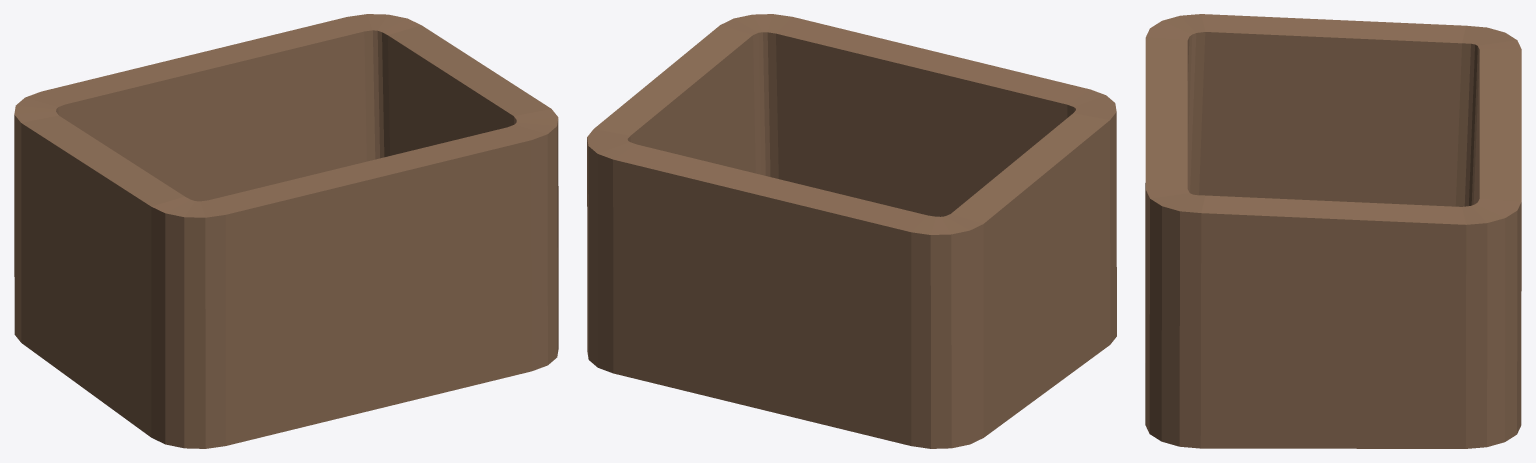
Rendered from TomatoBoxBackEmpty.fbx.
3 views of the same model, side by side, from view 1: azimuth 30°, elevation 25°; view 2: azimuth 150°, elevation 25°; view 3: azimuth 270°, elevation 25° (orthographic). The views are drawn at different scales.
Visible parts, largest first — view 1: FrontBox01.001; view 2: FrontBox01.001; view 3: FrontBox01.001.
Boxes of the visible parts, <box> form: FrontBox01.001: <box>14,14,558,448</box>; FrontBox01.001: <box>587,14,1116,448</box>; FrontBox01.001: <box>1145,14,1521,448</box>.
Size of the model in its own units: 93.85 by 51.87 by 74.95.
